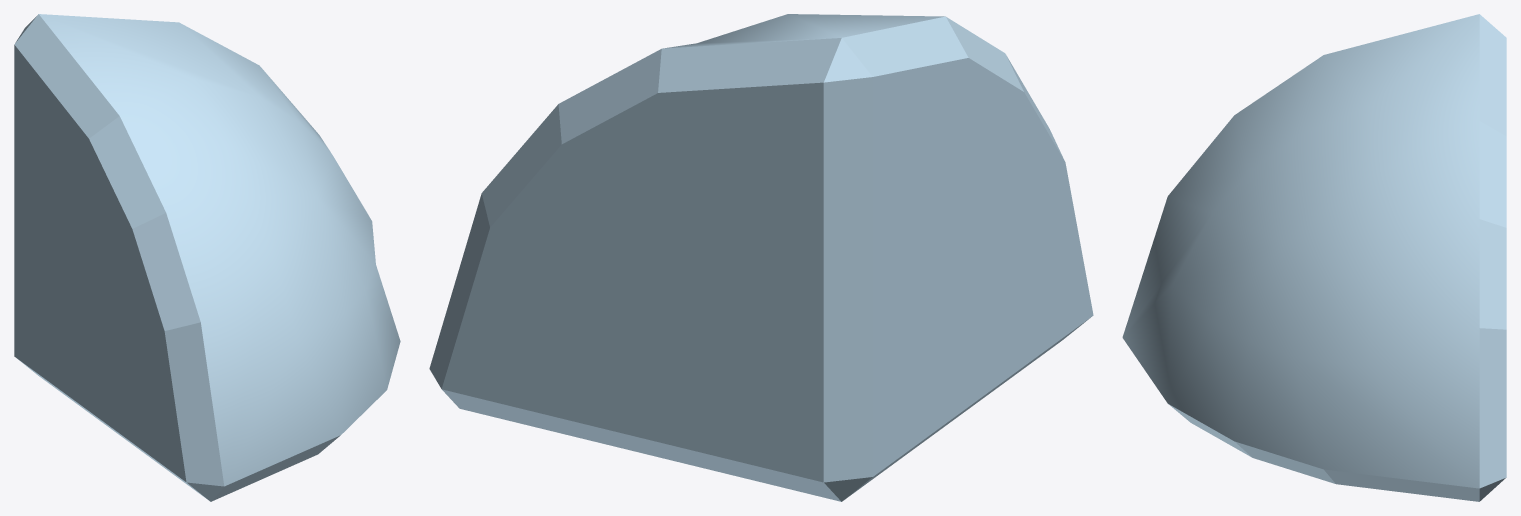
File: R4B_RoundCorner.glb
3 renders of one model, left to right at view 1: azimuth 30°, elevation 25°; view 2: azimuth 150°, elevation 25°; view 3: azimuth 270°, elevation 25°, orthographic. The views are drawn at different scales.
Visible parts, largest first — view 1: R4B_RoundCorner; view 2: R4B_RoundCorner; view 3: R4B_RoundCorner.
Boxes of the visible parts, x1,y1,x2,y2 form: R4B_RoundCorner: (14, 14, 400, 501); R4B_RoundCorner: (429, 14, 1093, 501); R4B_RoundCorner: (1122, 14, 1506, 501).
Bounding box in the file's own units: 0.5125 × 0.5125 × 0.5125.
